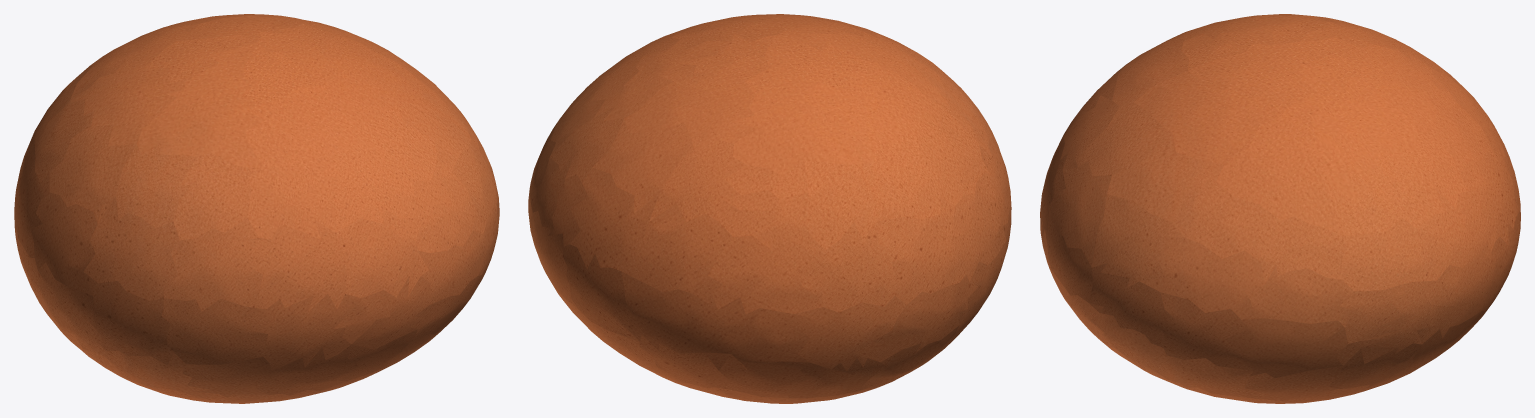
File: egg.glb
3 renders of one model, left to right at view 1: azimuth 30°, elevation 25°; view 2: azimuth 150°, elevation 25°; view 3: azimuth 270°, elevation 25°, orthographic.
Visible parts, largest first — view 1: output_unwrapped; view 2: output_unwrapped; view 3: output_unwrapped.
Part boxes in pixels (bbox=[...]): output_unwrapped: bbox=[14, 14, 499, 403]; output_unwrapped: bbox=[528, 14, 1011, 403]; output_unwrapped: bbox=[1040, 14, 1520, 403].
Bounding box in the file's own units: 1.9 × 1.46 × 1.9.
Materials: 1 (1 with a texture image).
